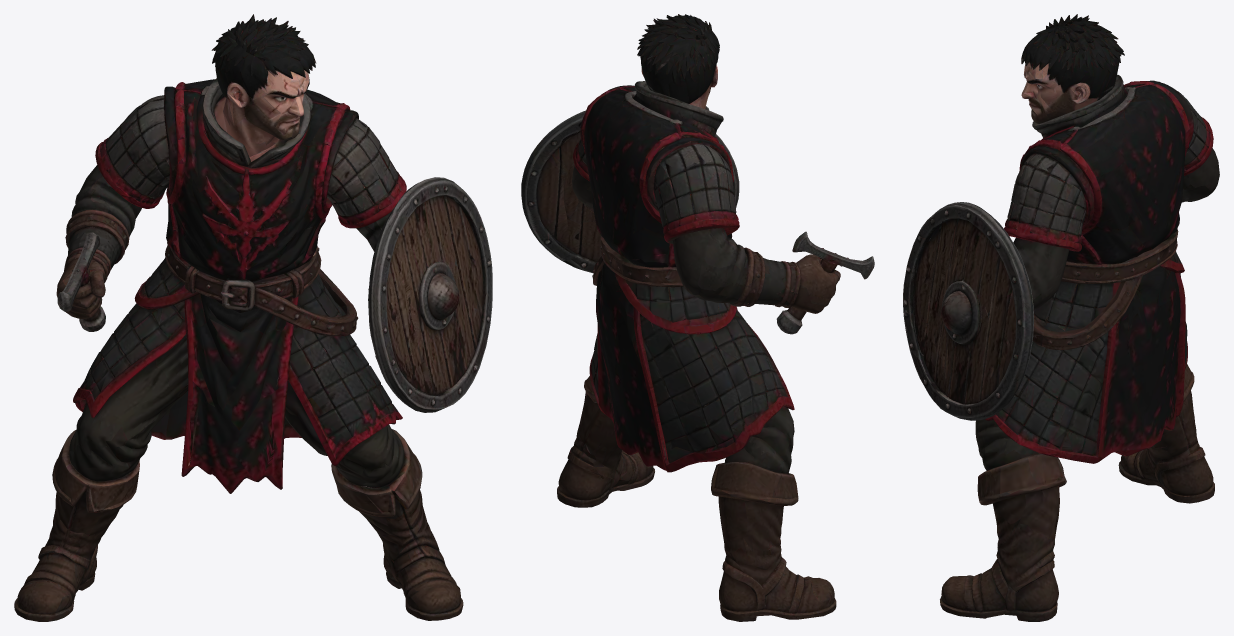
Rendered from squire_dark.glb.
3 views of the same model, side by side, from view 1: azimuth 30°, elevation 25°; view 2: azimuth 150°, elevation 25°; view 3: azimuth 270°, elevation 25° (orthographic). The views are drawn at different scales.
Bounding box in the file's own units: 1.42 × 1.9 × 1.03.
Materials: 1 (1 with a texture image).
